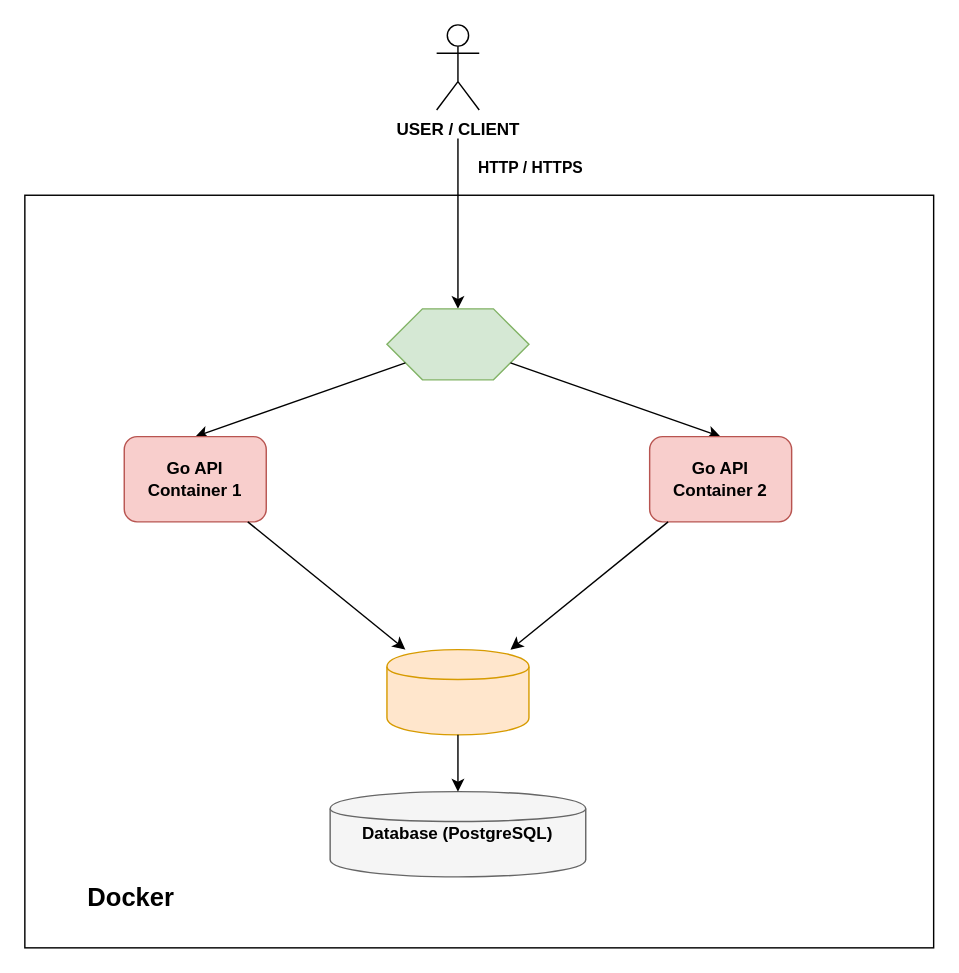
The diagram is 959 pixels wide and 973 high, and some of its shapes have lost their labels. The box of each missing label's shape, as (x1, y1, x2, y2) in pixels:
Internal Network: (386, 648, 529, 735)
Load Balancer: (386, 307, 529, 380)
